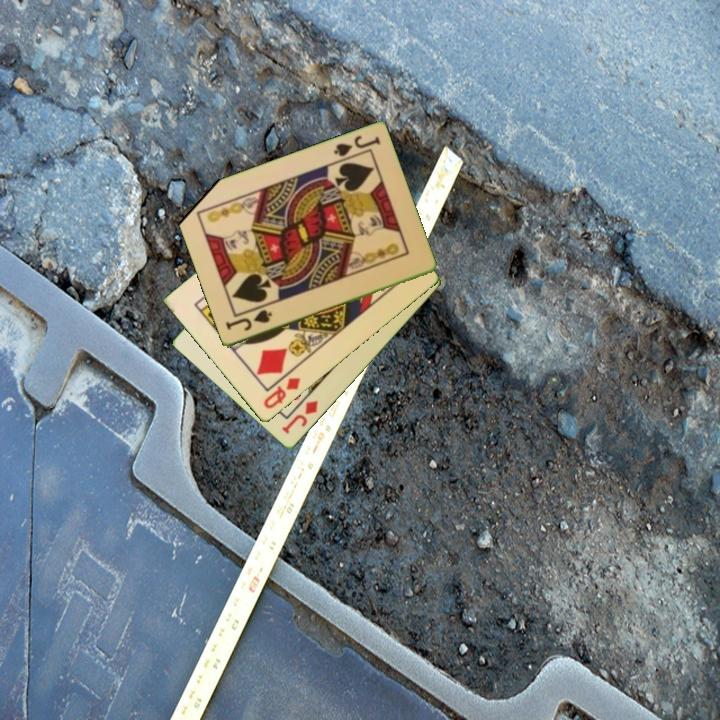Jd: (278, 397, 321, 437)
Js: (330, 132, 383, 160), (222, 307, 275, 334)
Qd: (260, 374, 303, 412)
